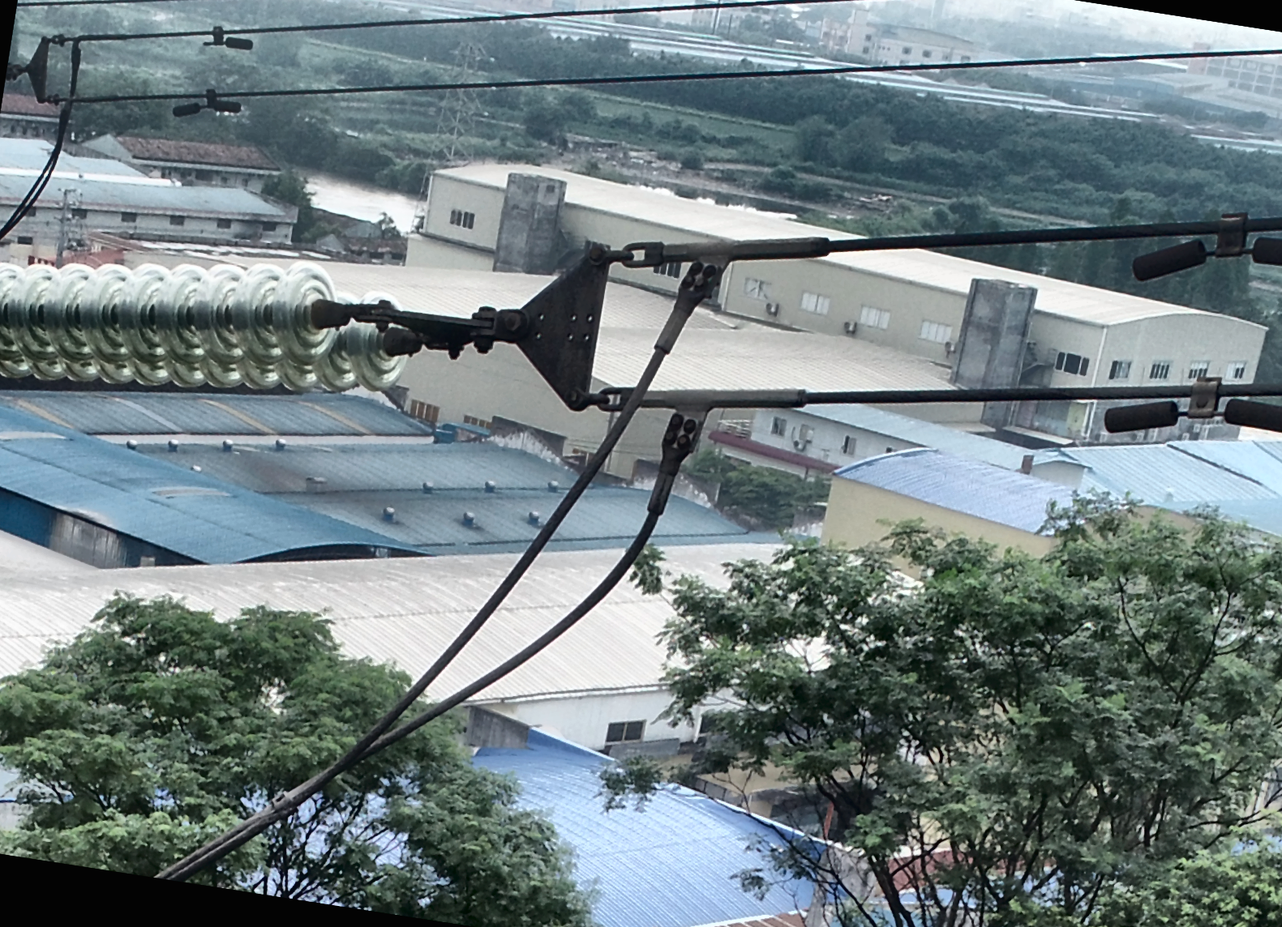damper: (1088, 370, 1282, 436), (166, 86, 250, 118)
damper_defect: (194, 22, 259, 53)
